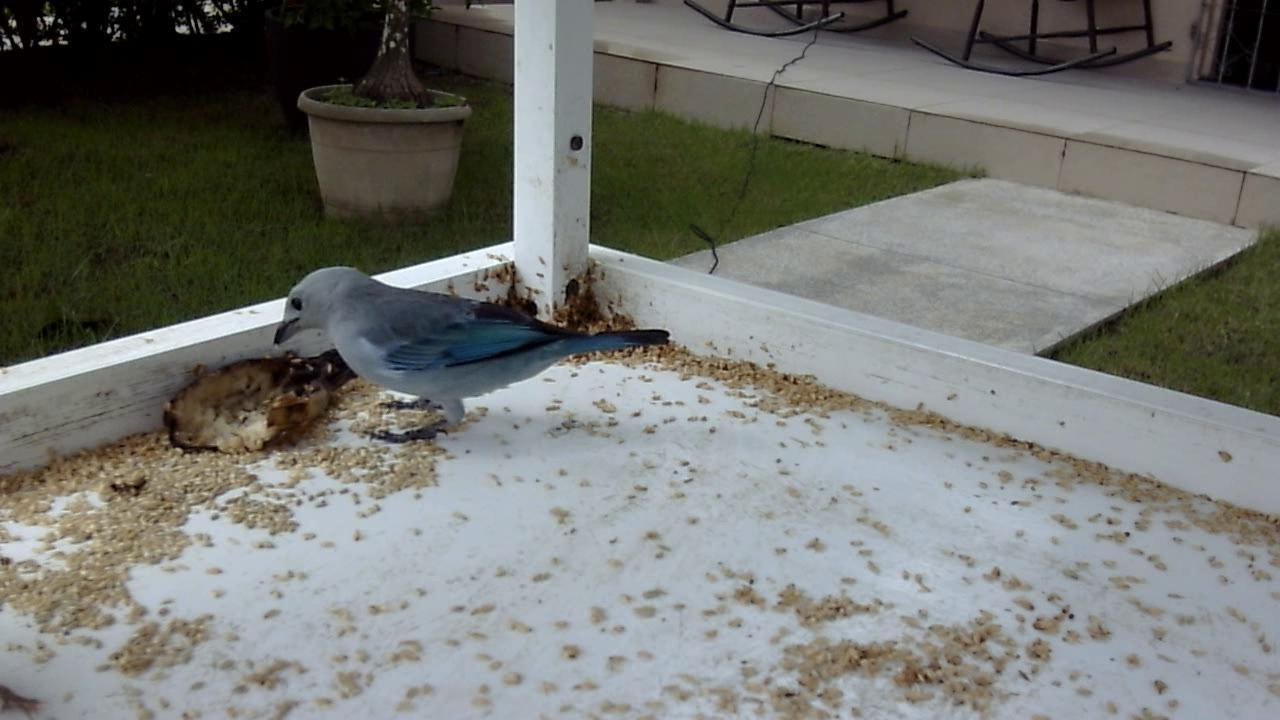sanhaco_da_amazonia: (272, 259, 671, 452)
